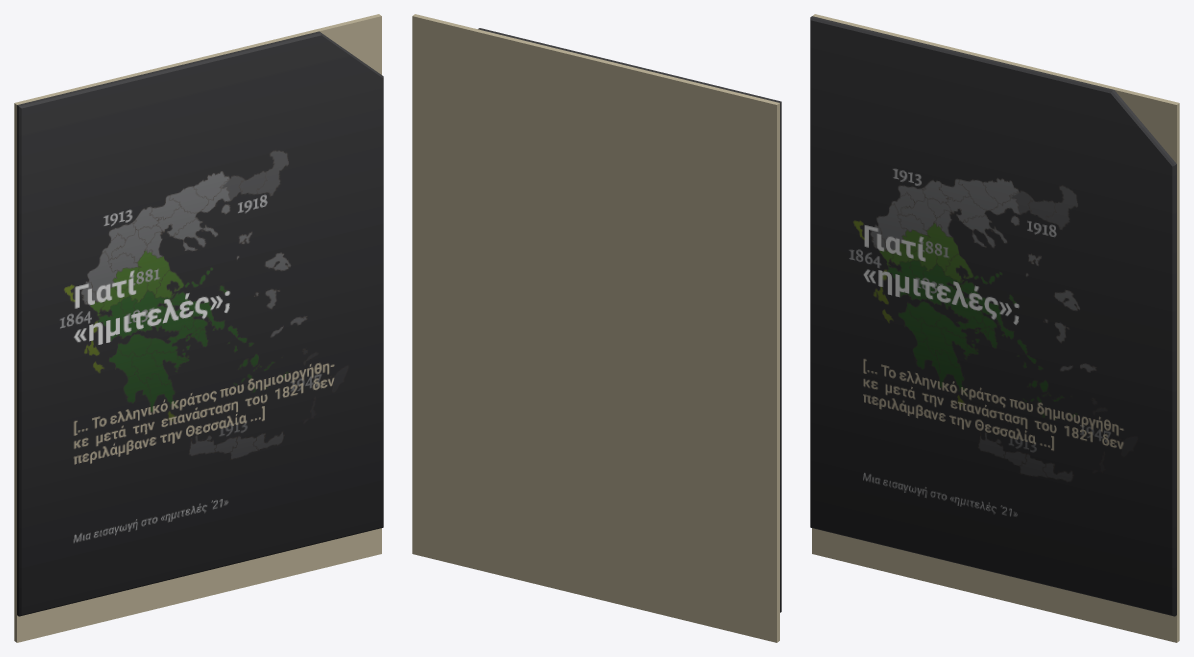
Rendered from MetallicMenuScene.glb.
3 views of the same model, side by side, from view 1: azimuth 30°, elevation 25°; view 2: azimuth 150°, elevation 25°; view 3: azimuth 330°, elevation 25° (orthographic).
Visible parts, largest first — view 1: TAB_00; view 2: TAB_00; view 3: TAB_00.
Boxes of the visible parts, left/top/right/bottom form: TAB_00: left=14, top=14, right=383, bottom=642; TAB_00: left=412, top=14, right=781, bottom=642; TAB_00: left=810, top=14, right=1179, bottom=642.
Bounding box in the file's own units: 2.2 × 3.1 × 0.06.
Materials: 2 (1 with a texture image).
